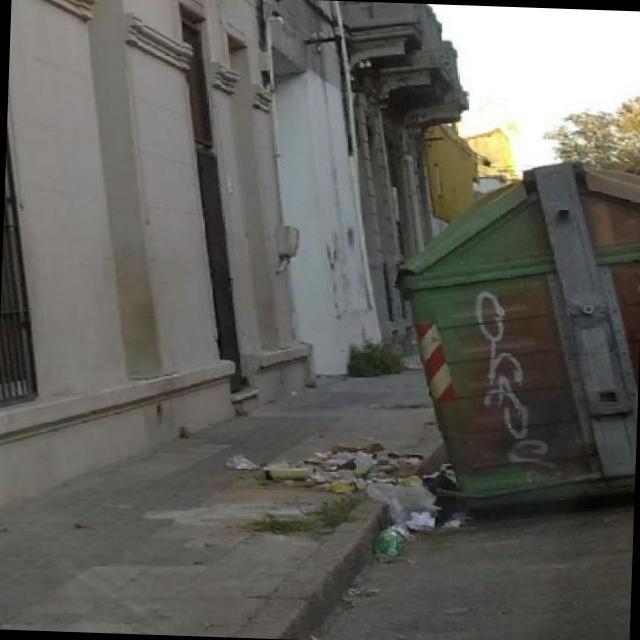garbage: (214, 428, 418, 480), (315, 451, 456, 526), (371, 524, 414, 560)
